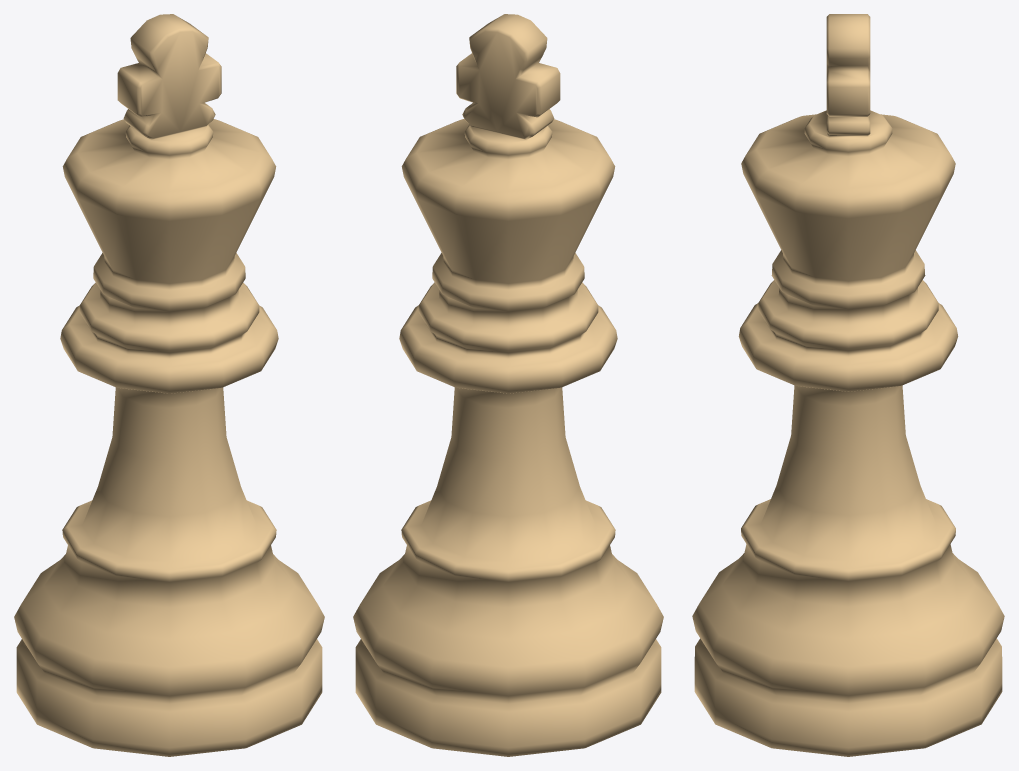
Rendered from white_king.gltf.
3 views of the same model, side by side, from view 1: azimuth 30°, elevation 25°; view 2: azimuth 150°, elevation 25°; view 3: azimuth 270°, elevation 25° (orthographic).
Visible parts, largest first — view 1: king; view 2: king; view 3: king.
Part boxes in pixels (x1=…): king: x1=14, y1=14, x2=324, y2=756; king: x1=353, y1=14, x2=663, y2=756; king: x1=692, y1=14, x2=1004, y2=756.
Size of the model in its own units: 16.38 by 38.99 by 16.38.
